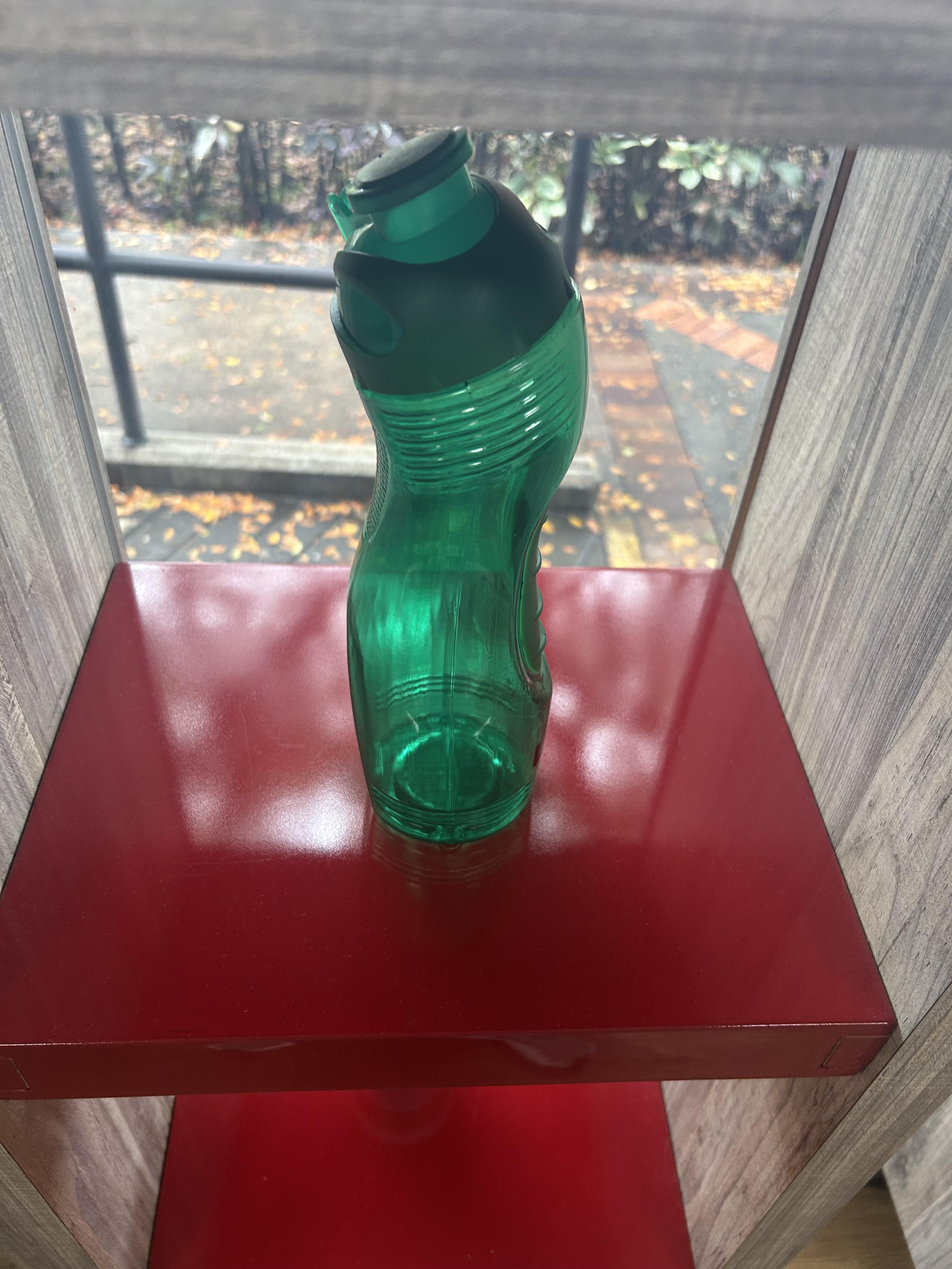termo: (331, 128, 588, 844)
